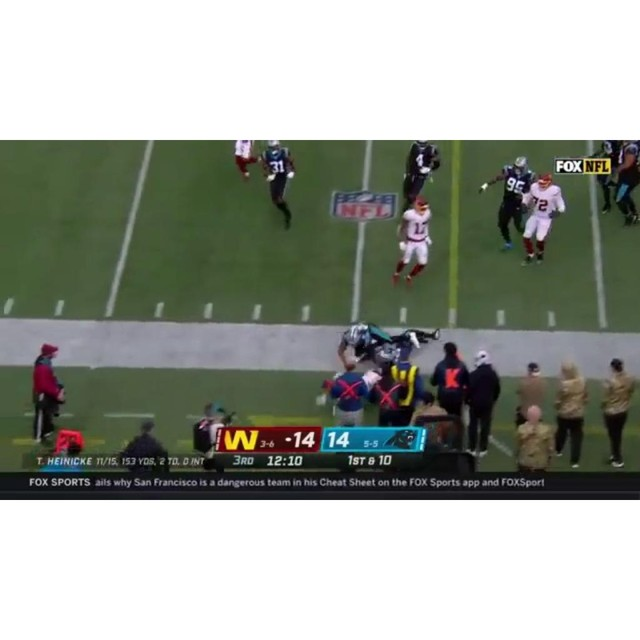american-football-player: (479, 158, 534, 253), (520, 172, 565, 265), (392, 196, 434, 288), (259, 141, 295, 231), (401, 140, 441, 210), (613, 142, 639, 227), (594, 141, 619, 217), (233, 140, 257, 182)
